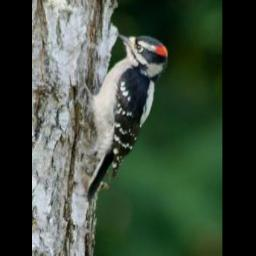Woodpecker: (79, 28, 170, 206)
